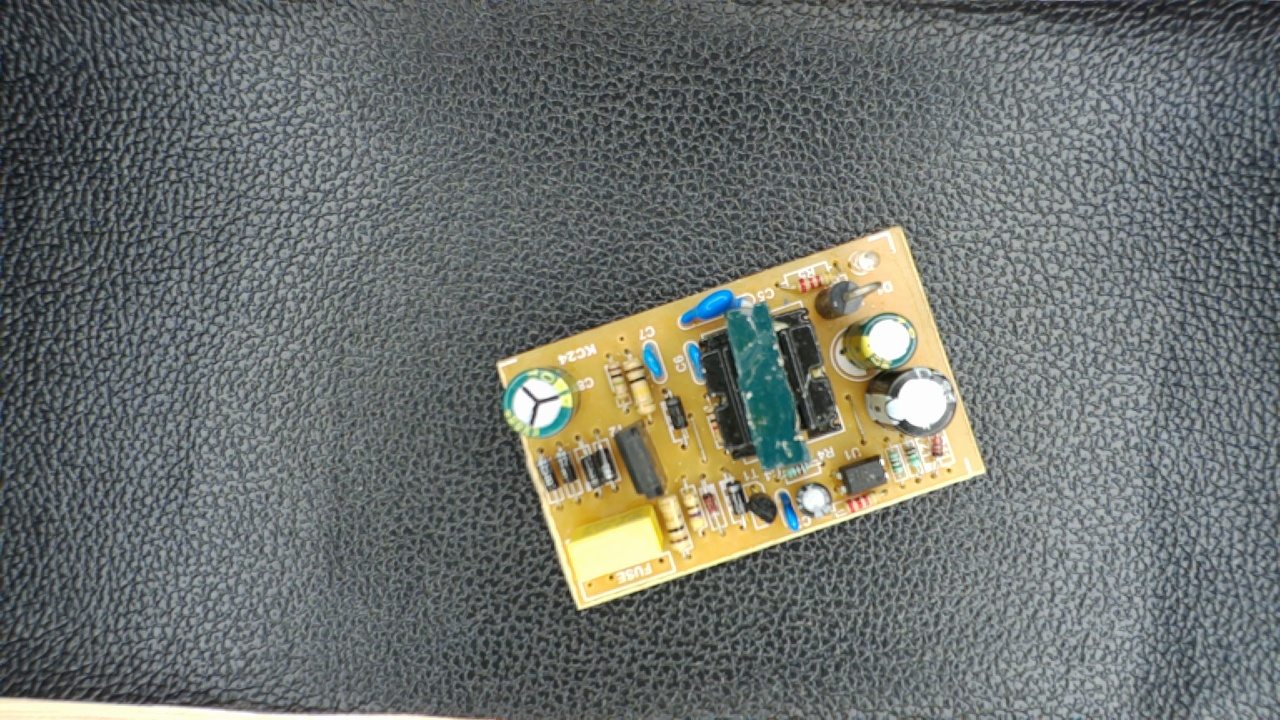hv_capacitor: (503, 366, 582, 441)
mov: (677, 288, 743, 330)
optocoupler: (830, 453, 894, 498)
